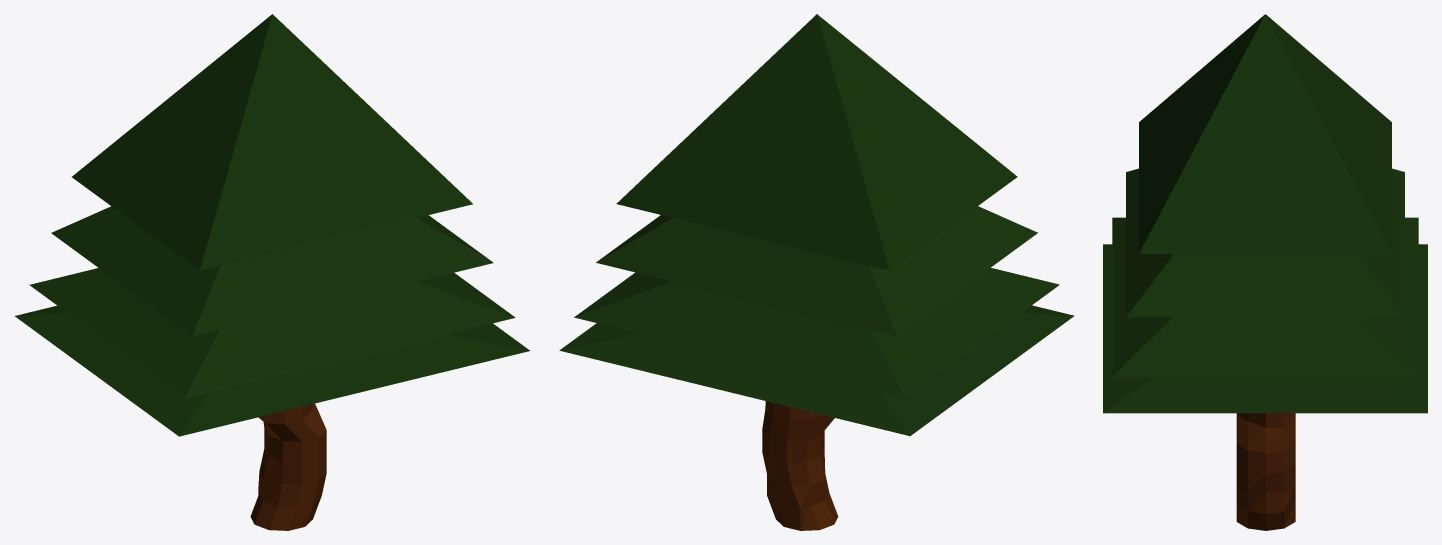
The model's file is tree 4.fbx.
3 views of the same model, side by side, from view 1: azimuth 30°, elevation 25°; view 2: azimuth 150°, elevation 25°; view 3: azimuth 270°, elevation 25° (orthographic).
Parts seen in each view (by area): view 1: tree 4; view 2: tree 4; view 3: tree 4.
Part boxes in pixels (x1,y1,x2,y2): tree 4: (15,14,529,530); tree 4: (559,14,1074,530); tree 4: (1103,14,1427,530).
Bounding box in the file's own units: 1952 × 1585 × 2689.
